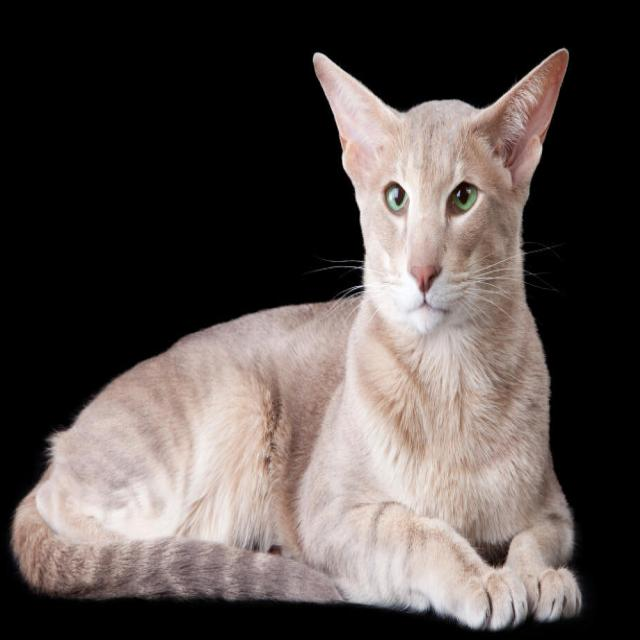Oriental: (9, 45, 586, 636)
